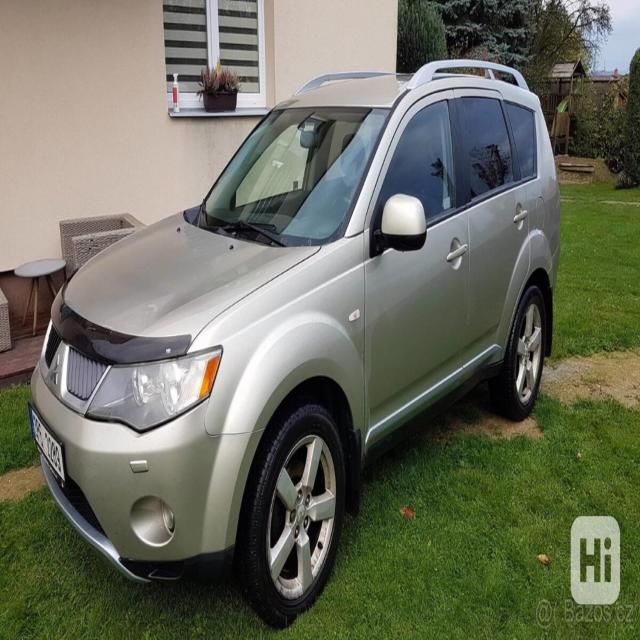light_vehicle: (26, 60, 561, 628)
